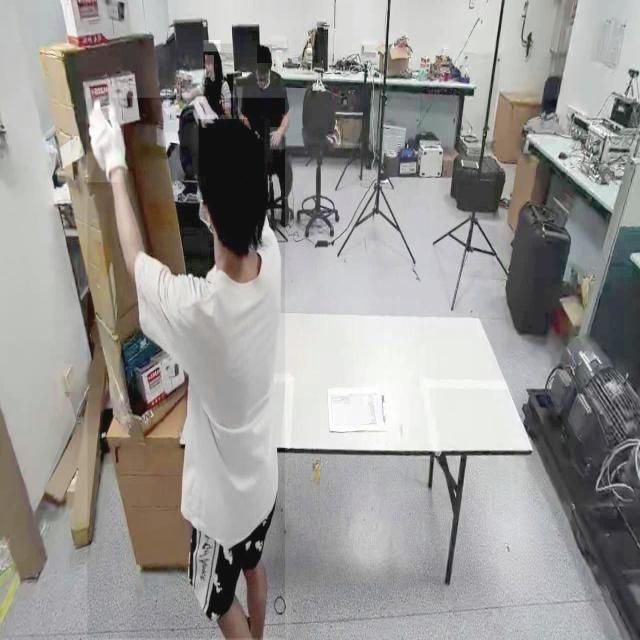face_nomask: (204, 55, 214, 78)
hand_glove: (86, 88, 124, 182)
hand_noglove: (270, 127, 284, 150)
head_nohelmet: (198, 119, 264, 178), (256, 44, 272, 64), (203, 40, 221, 52)
person: (87, 98, 285, 639), (244, 42, 292, 225), (203, 44, 233, 116)
